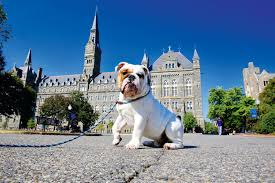Bulldog: (105, 55, 189, 156)
